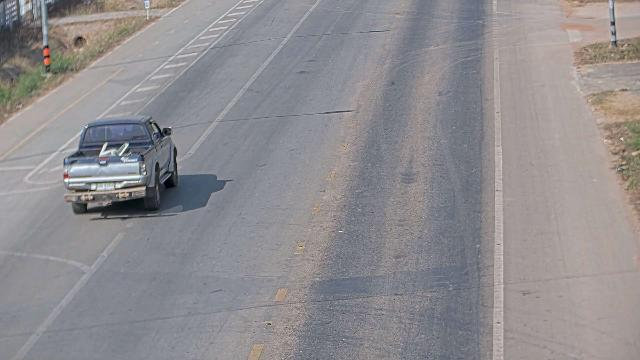pickup-truck: (62, 115, 178, 214)
